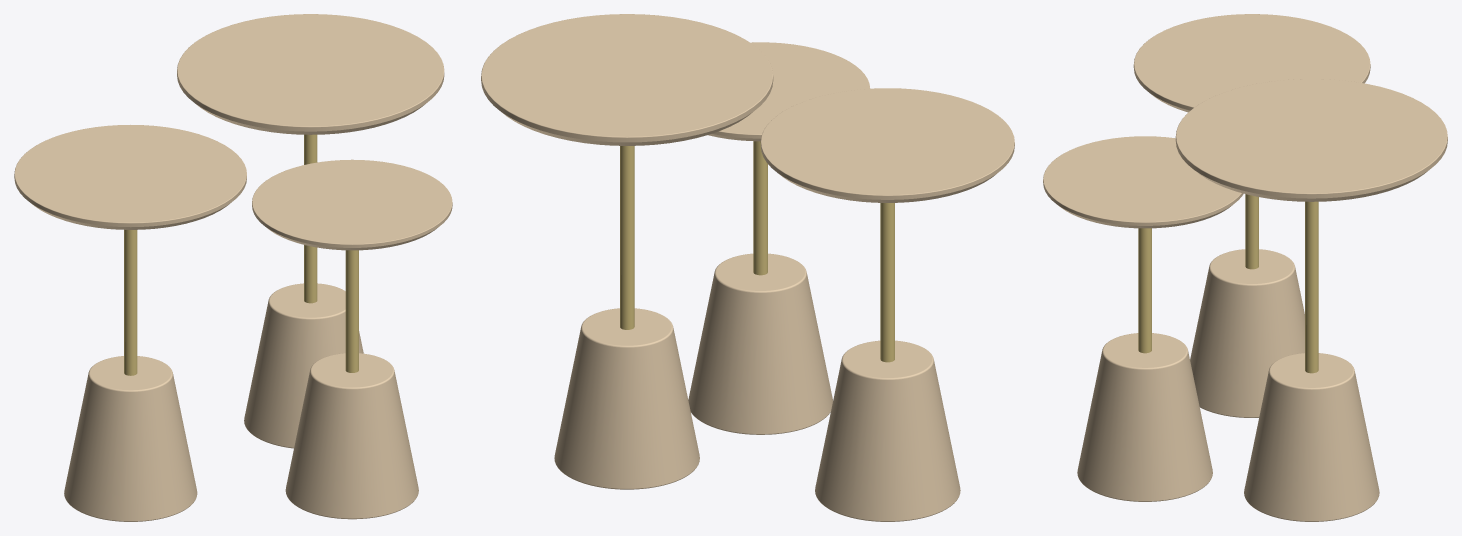
File: mesa-auxiliar-glera.glb
3 renders of one model, left to right at view 1: azimuth 30°, elevation 25°; view 2: azimuth 150°, elevation 25°; view 3: azimuth 270°, elevation 25°, orthographic. The views are drawn at different scales.
Visible parts, largest first — view 1: Base (×3), Tampo, Tampo#1, Tampo#2, Haste#1, Haste#2, Haste; view 2: Base (×3), Tampo, Tampo#1, Tampo#2, Haste, Haste#1, Haste#2; view 3: Base (×3), Tampo, Tampo#1, Tampo#2, Haste, Haste#2, Haste#1.
Boxes of the visible parts, x1=… form: Base (×3): x1=64, y1=283, x2=418, y2=521; Tampo: x1=177, y1=14, x2=444, y2=134; Tampo#1: x1=14, y1=125, x2=246, y2=229; Tampo#2: x1=252, y1=159, x2=452, y2=250; Haste#1: x1=124, y1=230, x2=137, y2=375; Haste#2: x1=345, y1=250, x2=358, y2=372; Haste: x1=304, y1=134, x2=317, y2=303; Base (×3): x1=554, y1=253, x2=960, y2=521; Tampo: x1=481, y1=14, x2=773, y2=145; Tampo#1: x1=760, y1=88, x2=1014, y2=202; Tampo#2: x1=708, y1=42, x2=869, y2=141; Haste: x1=620, y1=146, x2=634, y2=329; Haste#1: x1=880, y1=203, x2=894, y2=362; Haste#2: x1=753, y1=141, x2=767, y2=275; Base (×3): x1=1077, y1=249, x2=1379, y2=521; Tampo: x1=1175, y1=79, x2=1447, y2=201; Tampo#1: x1=1133, y1=14, x2=1370, y2=112; Tampo#2: x1=1043, y1=136, x2=1243, y2=228; Haste: x1=1305, y1=201, x2=1318, y2=373; Haste#2: x1=1138, y1=228, x2=1151, y2=353; Haste#1: x1=1245, y1=194, x2=1258, y2=269.
Size of the model in its own units: 0.7354 by 0.58 by 0.595.
